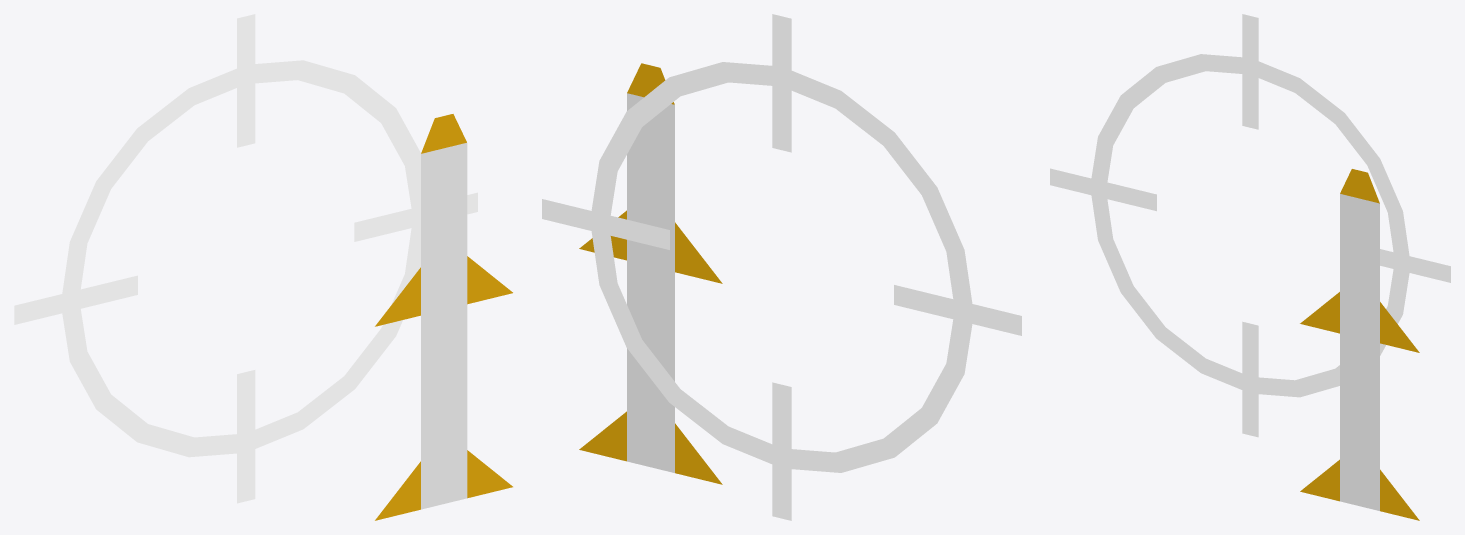
3 renders of one model, left to right at view 1: azimuth 30°, elevation 25°; view 2: azimuth 150°, elevation 25°; view 3: azimuth 330°, elevation 25°, orthographic. The views are drawn at different scales.
Visible parts, largest first — view 1: cursor, missile; view 2: cursor, missile; view 3: cursor, missile.
Boxes of the visible parts, bbox=[...] form: cursor: bbox=[14, 14, 477, 503]; missile: bbox=[375, 114, 512, 520]; cursor: bbox=[542, 14, 1021, 520]; missile: bbox=[579, 63, 722, 484]; cursor: bbox=[1050, 14, 1450, 437]; missile: bbox=[1300, 169, 1419, 520].
Size of the model in its own units: 0.75 by 0.775 by 0.1.
